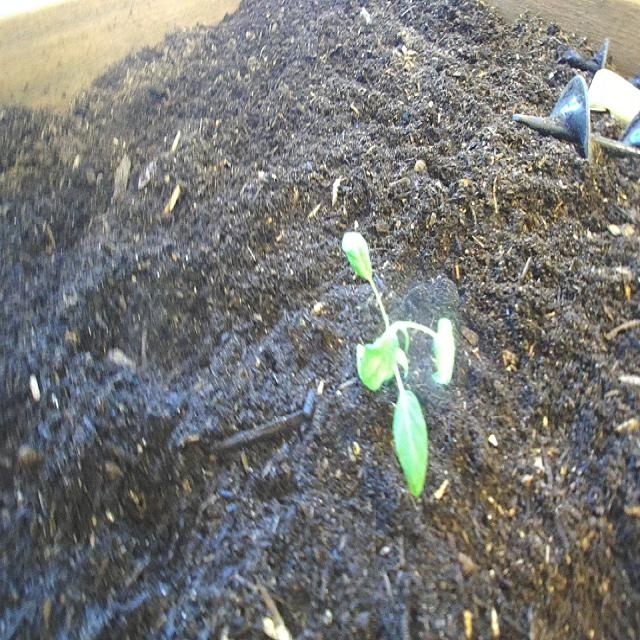Healthy: (335, 222, 461, 508)
